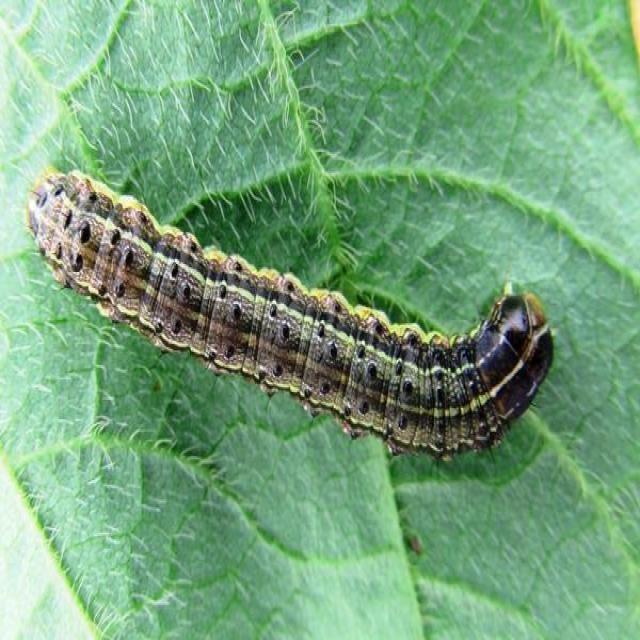army worm: (23, 159, 561, 468)
